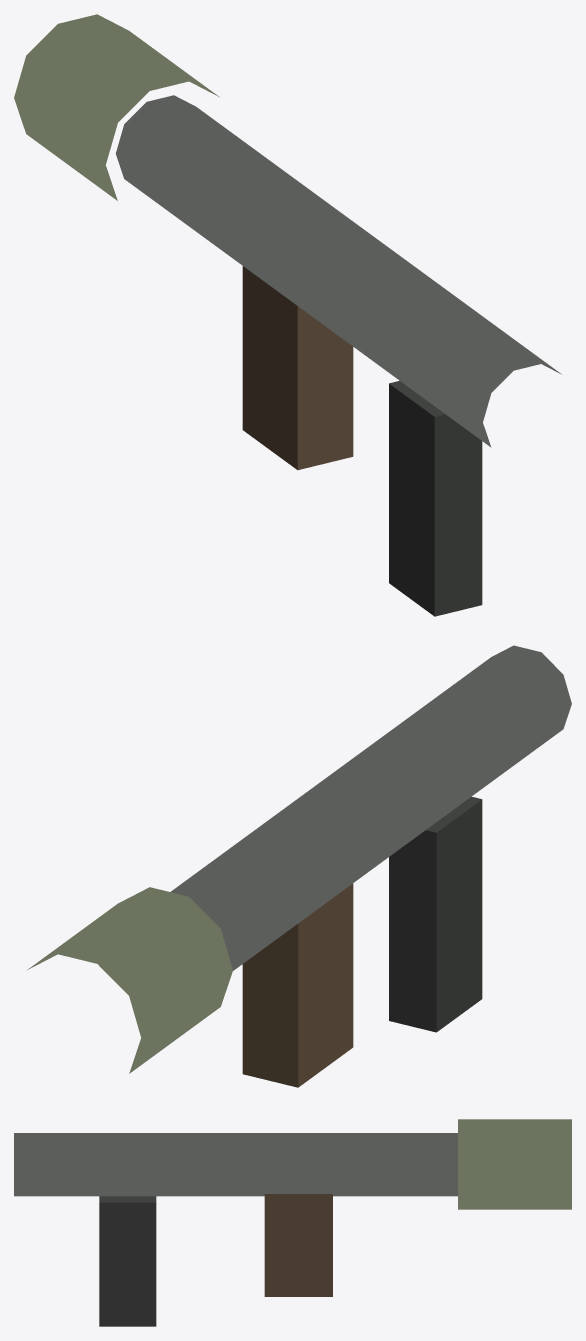
3 renders of one model, top to bottom at view 1: azimuth 30°, elevation 25°; view 2: azimuth 150°, elevation 25°; view 3: azimuth 270°, elevation 25°, orthographic. The views are drawn at different scales.
Visible parts, largest first — view 1: body; view 2: body; view 3: body.
Boxes of the visible parts, box(x1,y1,x2,y2) form: body: box(14, 14, 561, 616); body: box(27, 645, 571, 1087); body: box(14, 1119, 571, 1326).
Size of the model in its own units: 0.08 by 0.188 by 0.49.
